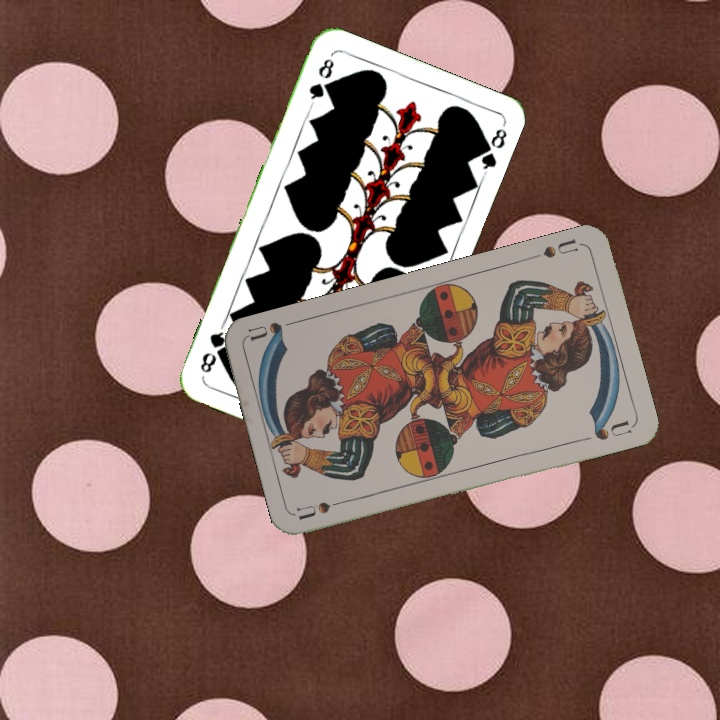G8: (305, 54, 337, 108)
SU: (293, 494, 353, 523), (526, 234, 584, 262)
